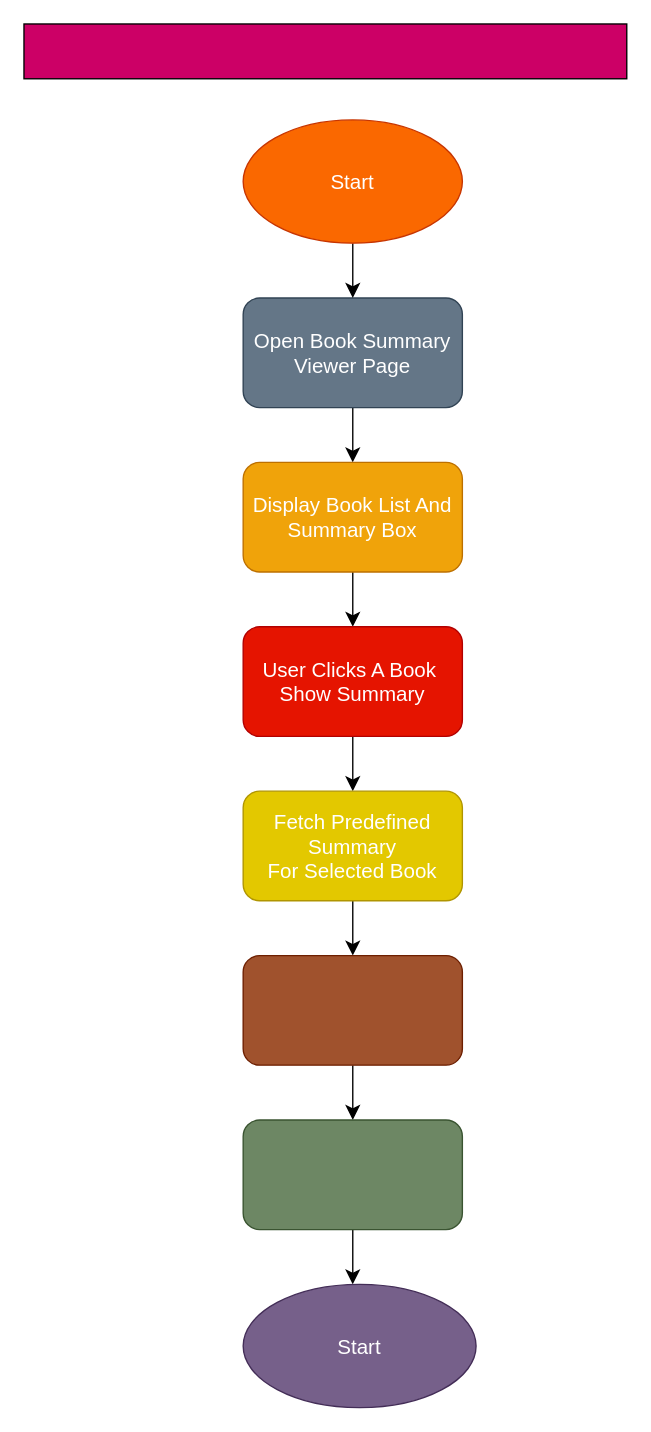
The diagram is 651 pixels wide and 1432 high, and some of its shapes have lost their labels. The centre of each missing label's shape, as x and y in pixels:
BOOK SUMMARY VIEWER: (325,51)
Display Summary To User: (352,1174)
Update Summary - Box Content: (352,1009)
